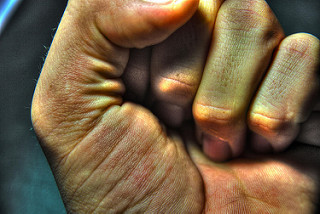fist: (46, 1, 317, 210)
